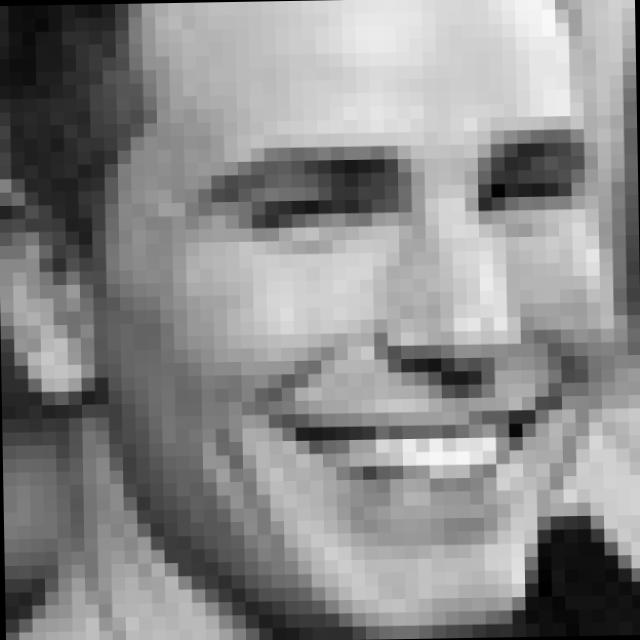happy: (188, 129, 584, 552)
